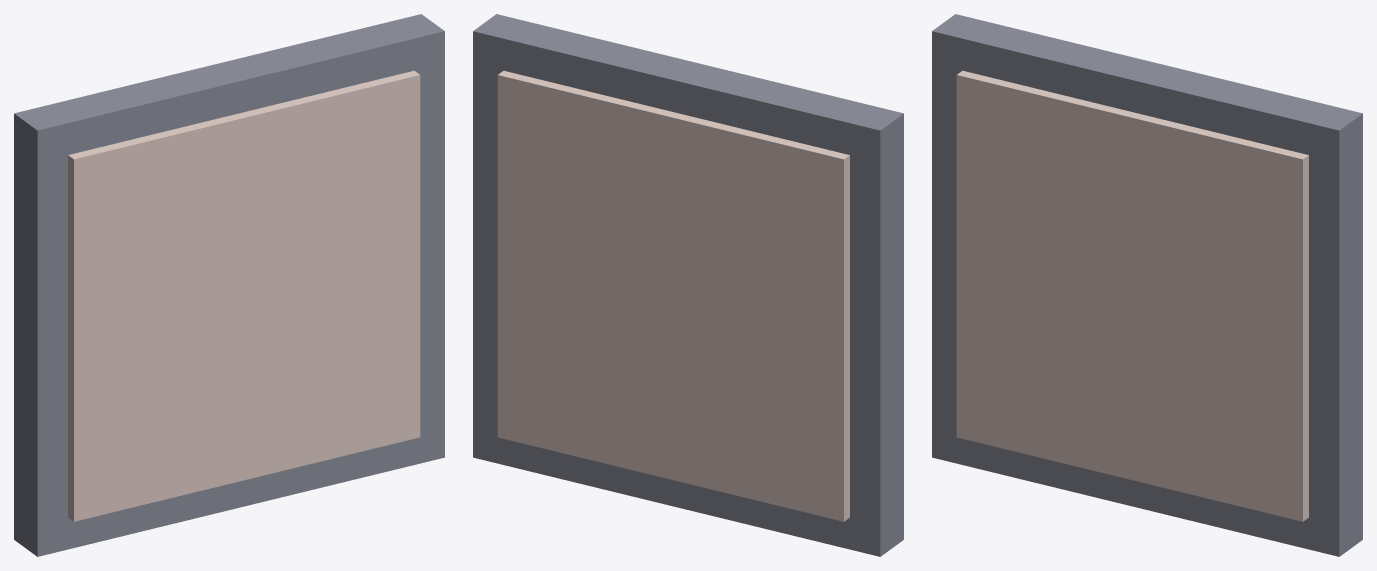
The model's file is Portal.fbx.
The picture shows the model from 3 angles, left to right: view 1: azimuth 30°, elevation 25°; view 2: azimuth 150°, elevation 25°; view 3: azimuth 330°, elevation 25°; orthographic projection.
Visible parts, largest first — view 1: Tile; view 2: Tile; view 3: Tile.
Boxes of the visible parts, x1=… form: Tile: x1=14, y1=14, x2=444, y2=556; Tile: x1=473, y1=14, x2=903, y2=556; Tile: x1=932, y1=14, x2=1362, y2=556.
Bounding box in the file's own units: 1 × 1 × 0.15.
